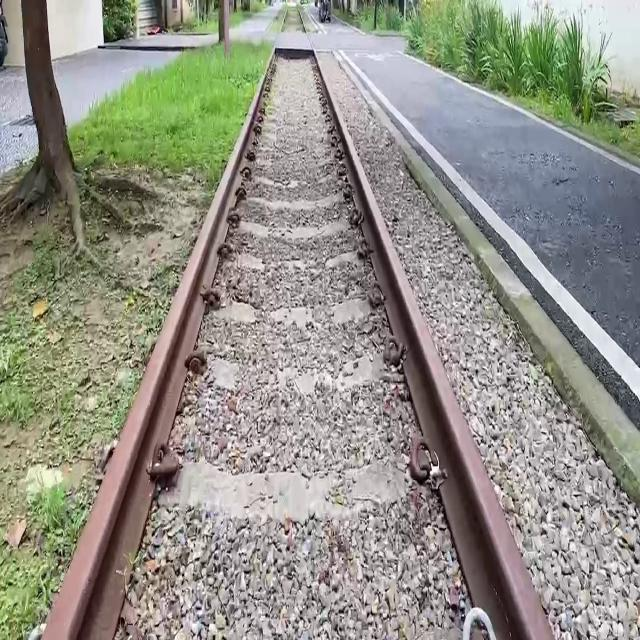rail-track: (116, 55, 469, 640)
